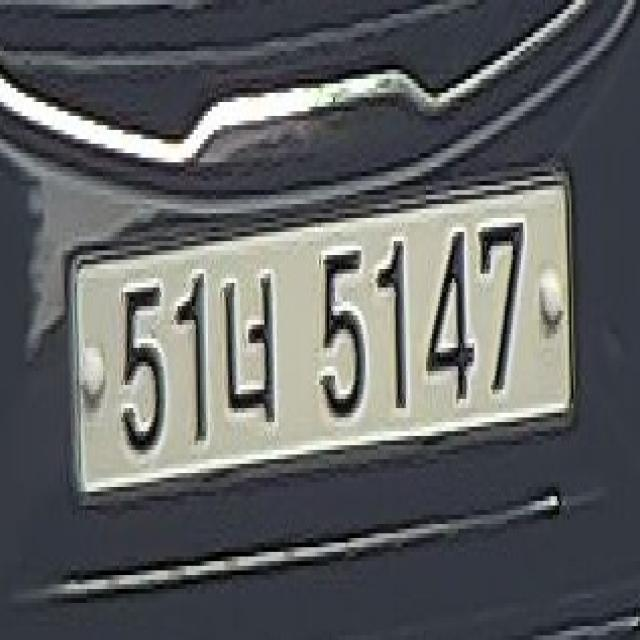1: (372, 226, 420, 417), (172, 268, 214, 456)
4: (427, 216, 477, 404)
5: (118, 278, 166, 464), (322, 234, 368, 426)
7: (479, 214, 528, 410)
license_plate: (57, 132, 591, 541)
neo: (224, 254, 284, 444)
